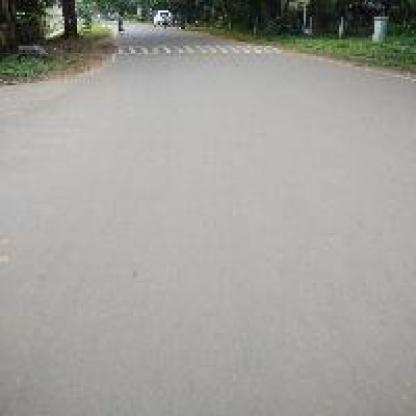Speed Bump: (114, 44, 285, 58)
